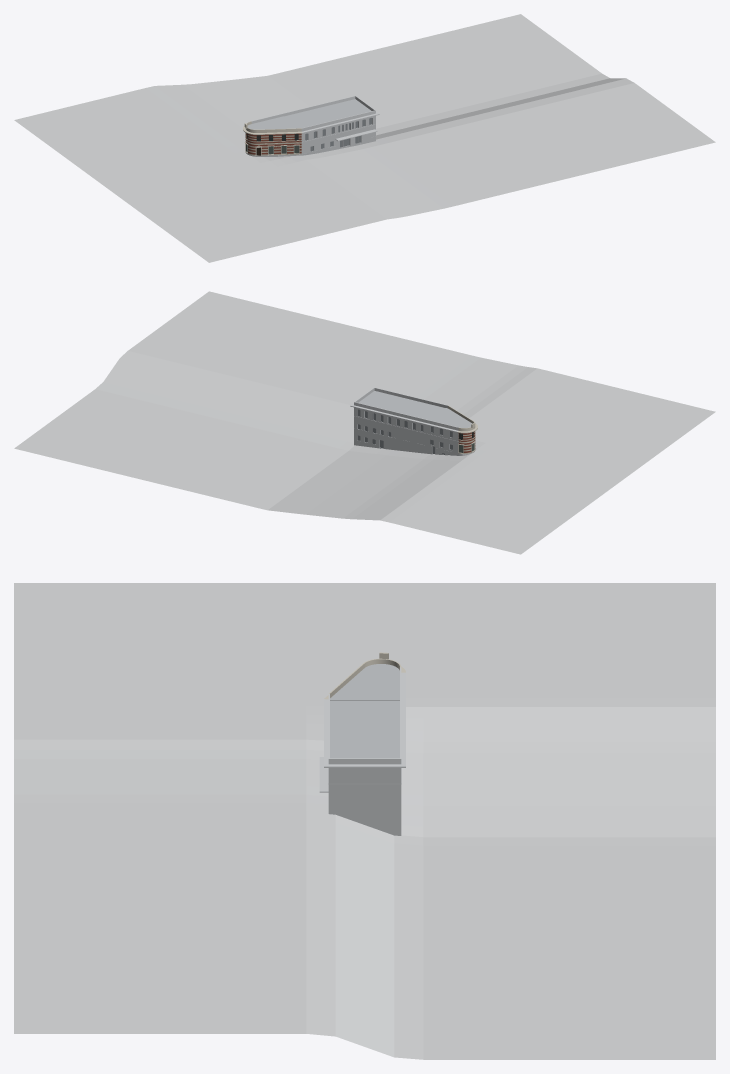
The model's file is preferred-runtime-candidate.glb.
The picture shows the model from 3 angles, top to bottom: view 1: azimuth 30°, elevation 25°; view 2: azimuth 150°, elevation 25°; view 3: azimuth 270°, elevation 25°; orthographic projection. The views are drawn at different scales.
Visible parts, largest first — view 1: H_SHELL_VALIDATION_SITE_OCCLUSION_surface_Validation_context, H_SHELL_INFERRED_piecewise_longitudinal_mass_Neutral_clay, H_SHELL_INFERRED_ordinary_parapet_Neutral_edge, H_SHELL_INFERRED_piecewise_longitudinal_mass_G_RUNTIME_OBLIQ, H_SHELL_PLACEHOLDER_roof_closure_Neutral_roof, H_SHELL_INFERRED_central_terrace_cap_Neutral_roof, H_SHELL_INFERRED_prow_roof_cap_Neutral_roof; view 2: H_SHELL_VALIDATION_SITE_OCCLUSION_surface_Validation_context, H_SHELL_INFERRED_piecewise_longitudinal_mass_Neutral_clay, H_SHELL_PLACEHOLDER_lower_shell_Neutral_clay, H_SHELL_INFERRED_ordinary_parapet_Neutral_edge, H_SHELL_PLACEHOLDER_roof_closure_Neutral_roof, H_SHELL_INFERRED_central_terrace_cap_Neutral_roof, H_WYNDHAM_LONG_Clay_recess_back, H_SHELL_INFERRED_prow_roof_cap_Neutral_roof; view 3: H_SHELL_VALIDATION_SITE_OCCLUSION_surface_Validation_context, H_SHELL_INFERRED_piecewise_longitudinal_mass_Neutral_clay, H_SHELL_INFERRED_central_terrace_cap_Neutral_roof, H_SHELL_PLACEHOLDER_roof_closure_Neutral_roof, H_SHELL_INFERRED_prow_roof_cap_Neutral_roof, H_SHELL_PLACEHOLDER_lower_shell_Neutral_clay, H_SHELL_CONFIRMED_eave_mass_Neutral_edge, H_SHELL_INFERRED_ordinary_parapet_Neutral_edge.
Part boxes in pixels (x1,y1,x2,y2): H_SHELL_VALIDATION_SITE_OCCLUSION_surface_Validation_context: [14, 14, 715, 262]; H_SHELL_INFERRED_piecewise_longitudinal_mass_Neutral_clay: [301, 115, 375, 154]; H_SHELL_INFERRED_ordinary_parapet_Neutral_edge: [251, 96, 375, 131]; H_SHELL_INFERRED_piecewise_longitudinal_mass_G_RUNTIME_OBLIQ: [257, 133, 301, 155]; H_SHELL_PLACEHOLDER_roof_closure_Neutral_roof: [317, 99, 371, 120]; H_SHELL_INFERRED_central_terrace_cap_Neutral_roof: [284, 108, 333, 128]; H_SHELL_INFERRED_prow_roof_cap_Neutral_roof: [247, 116, 299, 129]; H_SHELL_VALIDATION_SITE_OCCLUSION_surface_Validation_context: [14, 291, 715, 554]; H_SHELL_INFERRED_piecewise_longitudinal_mass_Neutral_clay: [354, 407, 458, 453]; H_SHELL_PLACEHOLDER_lower_shell_Neutral_clay: [354, 428, 474, 455]; H_SHELL_INFERRED_ordinary_parapet_Neutral_edge: [354, 387, 458, 430]; H_SHELL_PLACEHOLDER_roof_closure_Neutral_roof: [358, 391, 412, 411]; H_SHELL_INFERRED_central_terrace_cap_Neutral_roof: [396, 400, 445, 419]; H_WYNDHAM_LONG_Clay_recess_back: [357, 409, 452, 455]; H_SHELL_INFERRED_prow_roof_cap_Neutral_roof: [429, 408, 472, 427]; H_SHELL_VALIDATION_SITE_OCCLUSION_surface_Validation_context: [14, 583, 715, 1059]; H_SHELL_INFERRED_piecewise_longitudinal_mass_Neutral_clay: [328, 768, 401, 805]; H_SHELL_INFERRED_central_terrace_cap_Neutral_roof: [330, 701, 399, 729]; H_SHELL_PLACEHOLDER_roof_closure_Neutral_roof: [330, 730, 399, 758]; H_SHELL_INFERRED_prow_roof_cap_Neutral_roof: [330, 664, 399, 700]; H_SHELL_PLACEHOLDER_lower_shell_Neutral_clay: [328, 805, 401, 835]; H_SHELL_CONFIRMED_eave_mass_Neutral_edge: [324, 672, 405, 767]; H_SHELL_INFERRED_ordinary_parapet_Neutral_edge: [328, 667, 401, 764].
Size of the model in its own units: 180 by 16.36 by 120.
15 materials, 2 textured.
